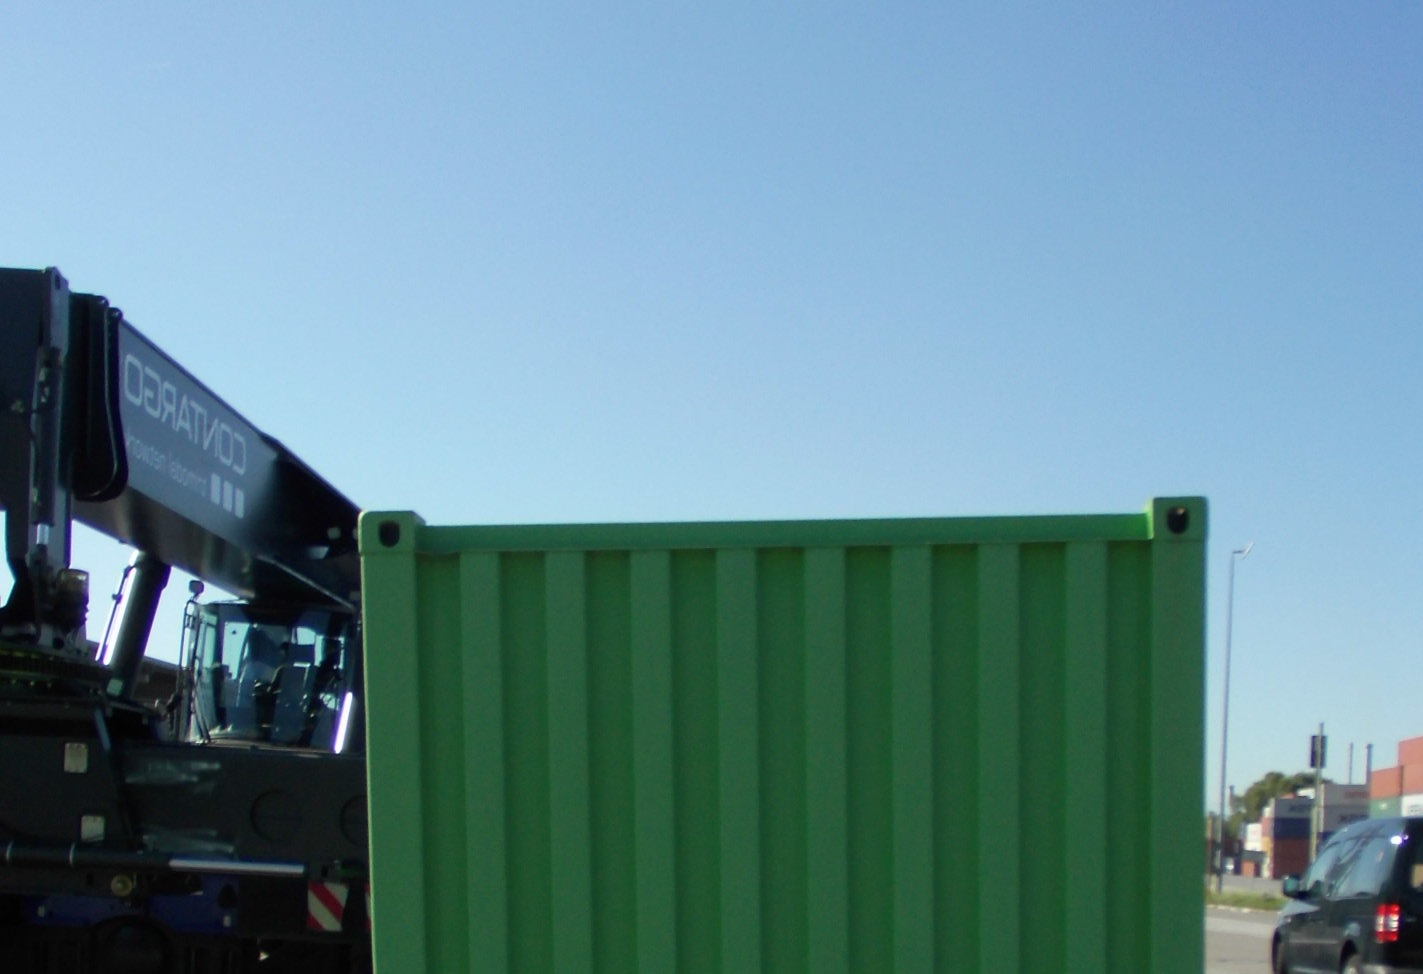container_no_door: (359, 512, 1205, 968)
